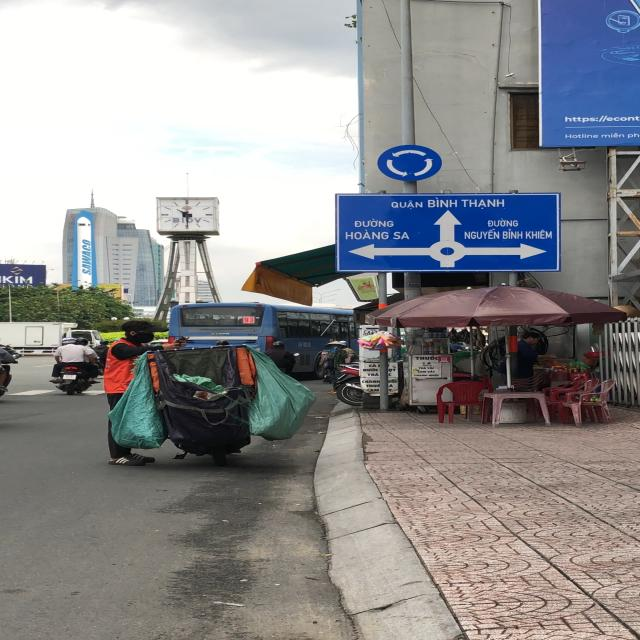Bien bao noi giao nhau chay theo vong xuyen: (371, 142, 448, 182)
